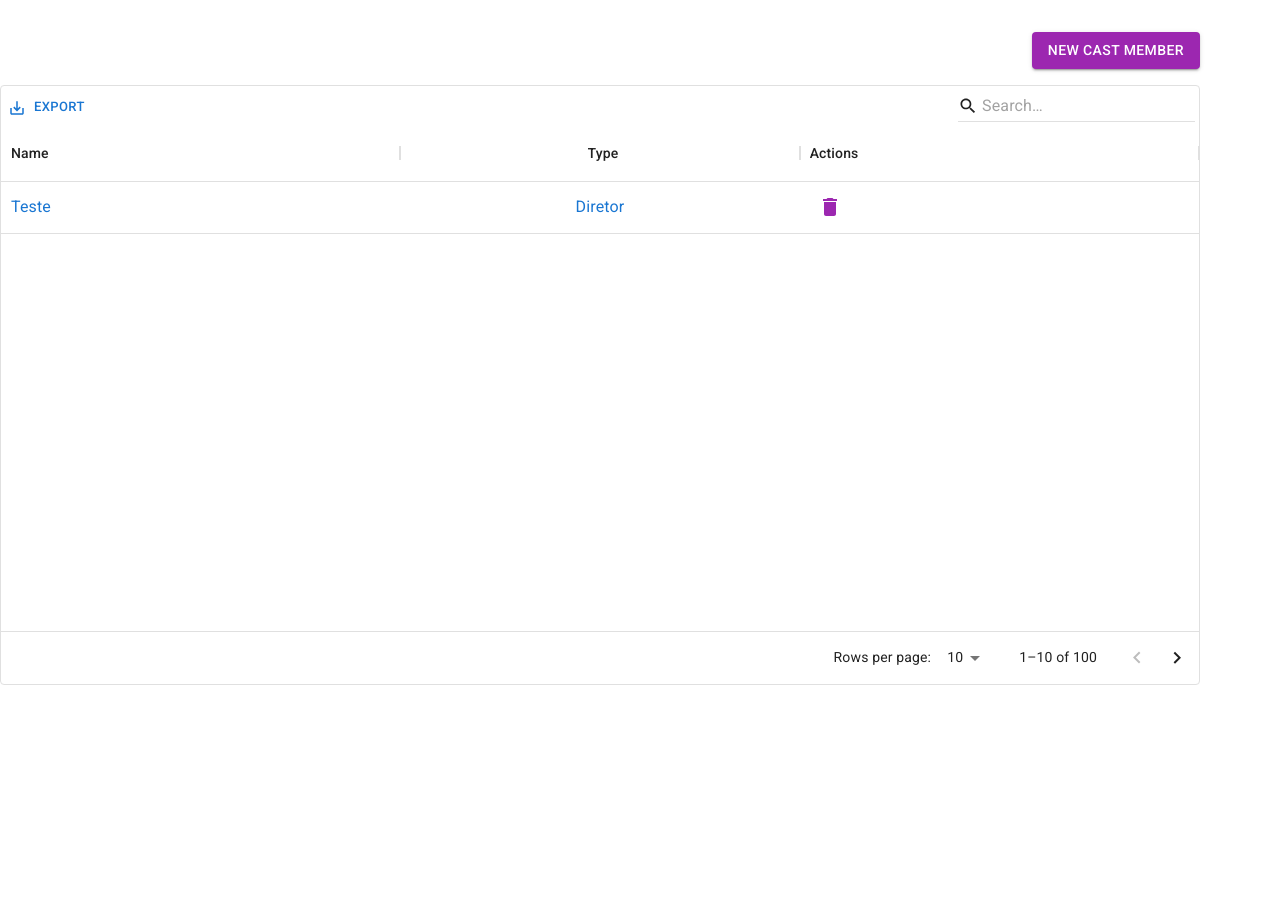
Test: ListCastMembers › should handle delete cast member success
Check: the text "Teste" is shown, box [11,195,51,219]
Click the button with test id "delete-button" at (830, 207), box [810,187,850,227]
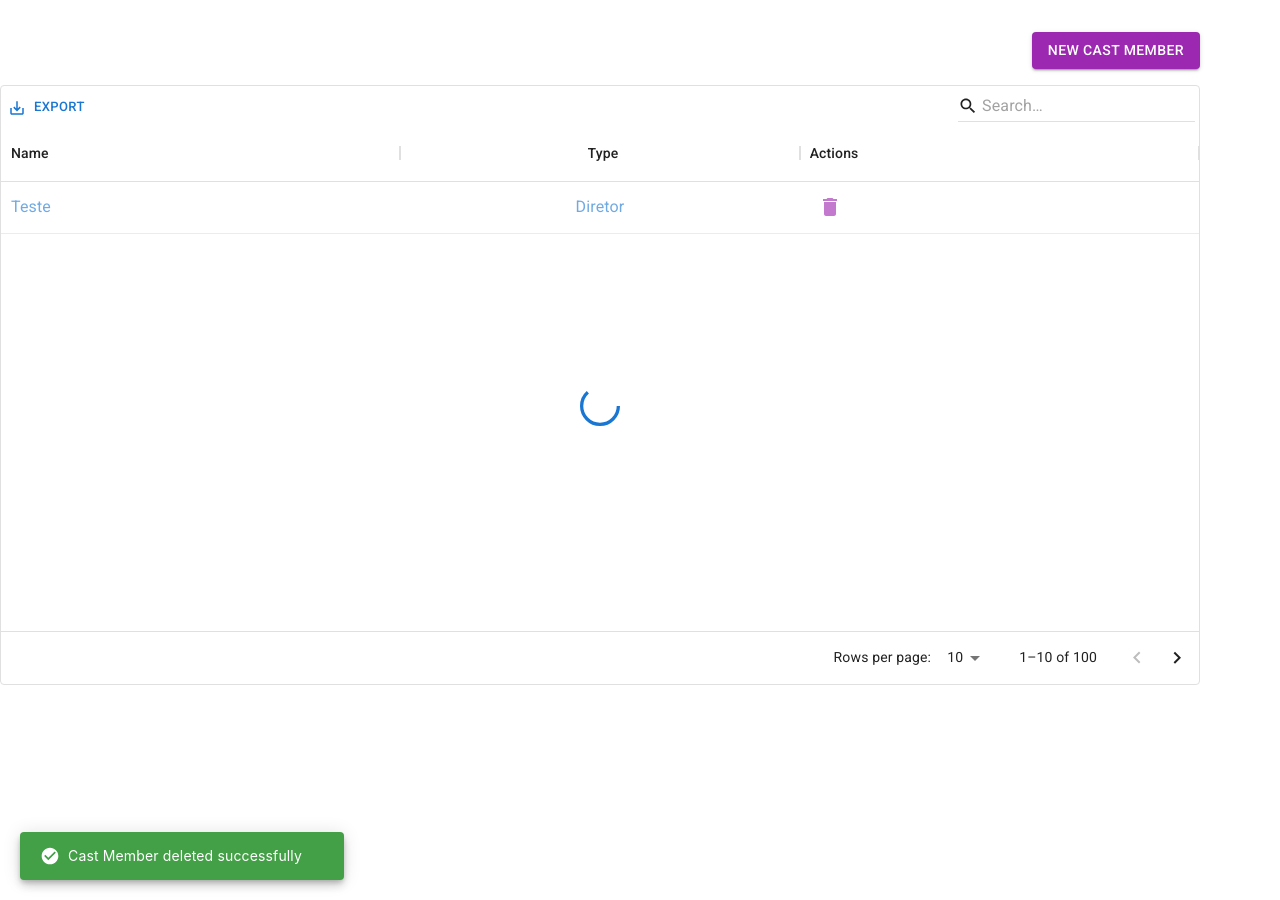
Check: the progress indicator is shown, box [580,386,620,426]
Check: the text "Cast Member deleted successfully" is shown, box [40,846,302,866]
